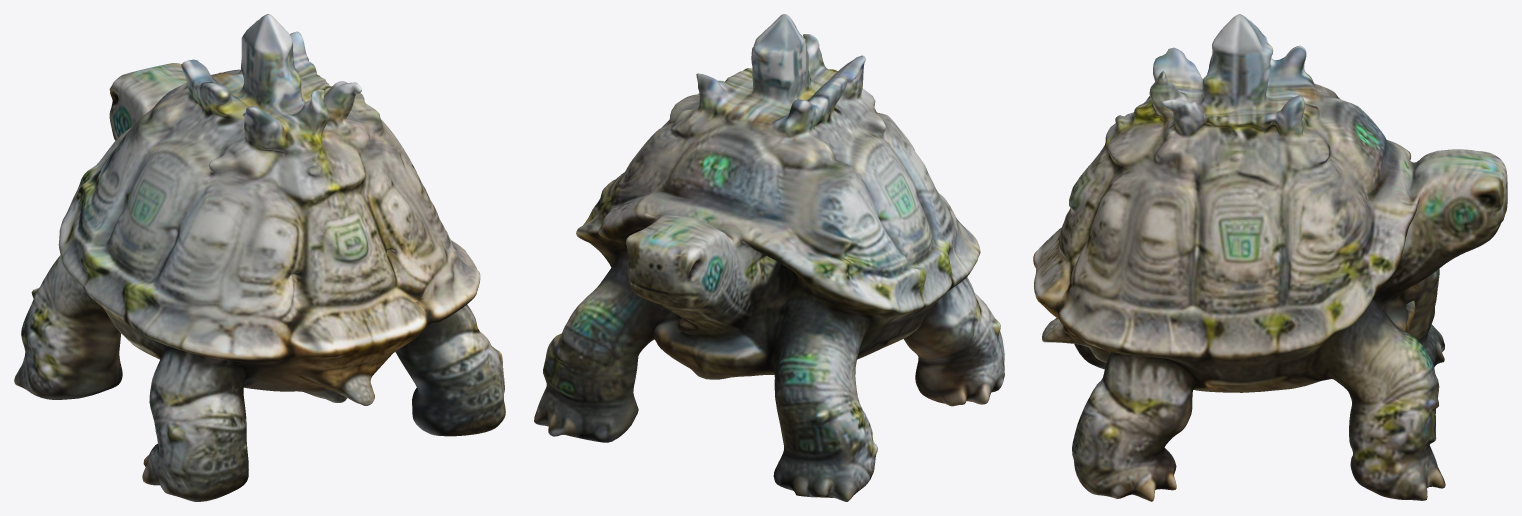
The model's file is earth_turtle.glb.
The picture shows the model from 3 angles, left to right: view 1: azimuth 30°, elevation 25°; view 2: azimuth 150°, elevation 25°; view 3: azimuth 270°, elevation 25°; orthographic projection. The views are drawn at different scales.
Visible parts, largest first — view 1: tripo_node_4b9792b0-9209-4695-b979-e99d4a7117c9; view 2: tripo_node_4b9792b0-9209-4695-b979-e99d4a7117c9; view 3: tripo_node_4b9792b0-9209-4695-b979-e99d4a7117c9.
Part boxes in pixels (left/top/right/bottom): tripo_node_4b9792b0-9209-4695-b979-e99d4a7117c9: left=14, top=14, right=505, bottom=501; tripo_node_4b9792b0-9209-4695-b979-e99d4a7117c9: left=534, top=14, right=1004, bottom=501; tripo_node_4b9792b0-9209-4695-b979-e99d4a7117c9: left=1033, top=14, right=1507, bottom=501.
Bounding box in the file's own units: 0.5548 × 0.6284 × 0.6543.
Materials: 1 (1 with a texture image).
